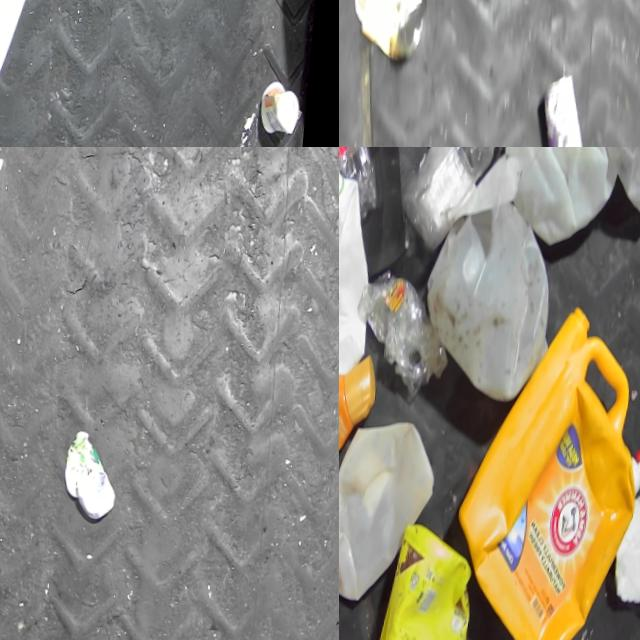can: (535, 67, 607, 147), (350, 0, 434, 60)
milk_jug: (420, 193, 564, 402), (339, 415, 448, 601), (495, 147, 628, 244), (339, 163, 383, 373), (0, 0, 42, 119), (579, 147, 640, 218)
non_white_jug: (449, 296, 640, 640), (373, 516, 488, 640)
plastic_bottle: (394, 147, 529, 250), (339, 147, 389, 219)
